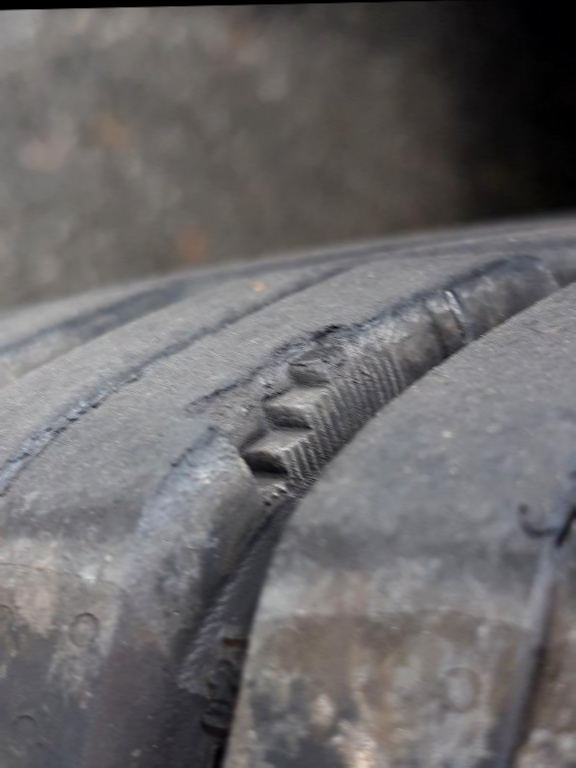temoin:80: (164, 300, 417, 523)
